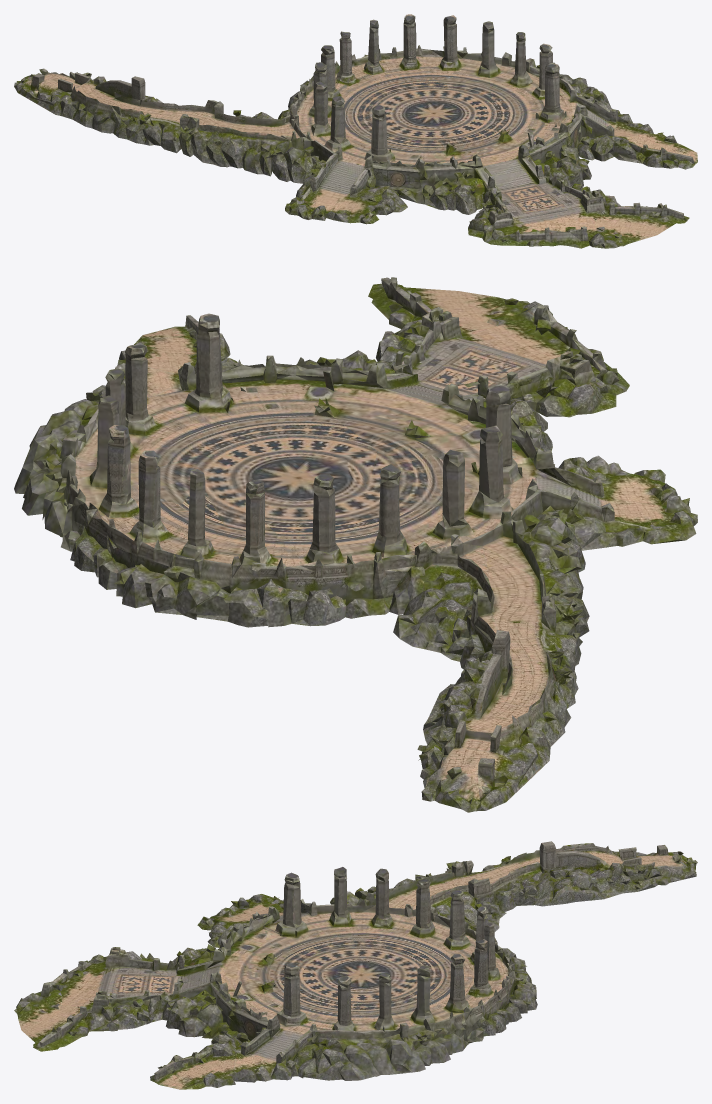
The model's file is arena.runtime.glb.
3 renders of one model, top to bottom at view 1: azimuth 30°, elevation 25°; view 2: azimuth 150°, elevation 25°; view 3: azimuth 270°, elevation 25°, orthographic. The views are drawn at different scales.
Visible parts, largest first — view 1: output_unwrapped; view 2: output_unwrapped; view 3: output_unwrapped.
Part boxes in pixels (x1,y1,x2,y2): output_unwrapped: (14, 14, 697, 248); output_unwrapped: (14, 277, 697, 812); output_unwrapped: (14, 841, 697, 1089).
Bounding box in the file's own units: 1.54 × 0.2368 × 1.91.
Materials: 1 (1 with a texture image).
